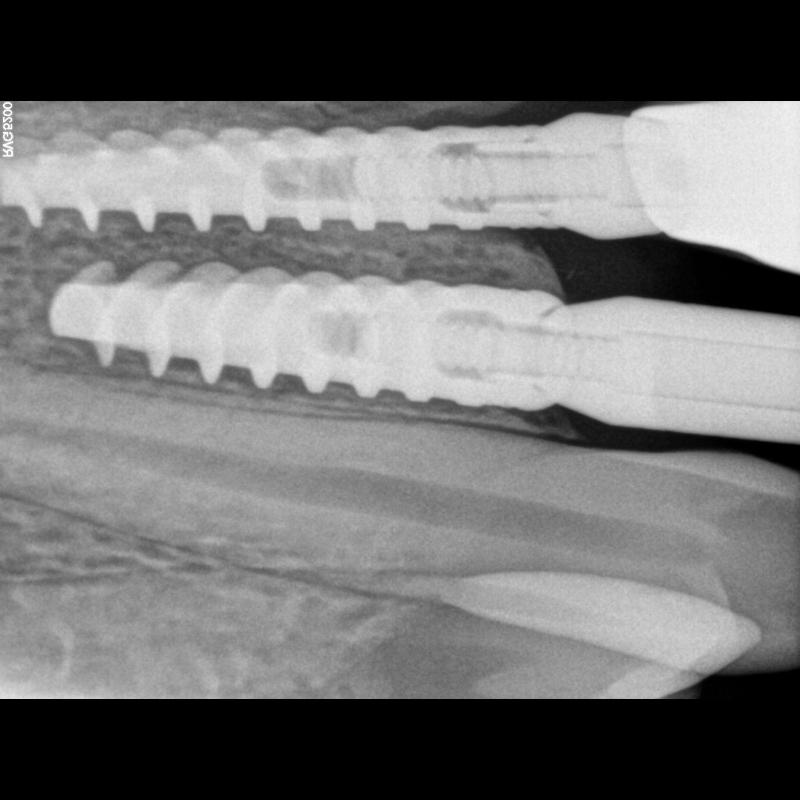ADIN: (5, 105, 696, 249), (60, 247, 582, 417)
